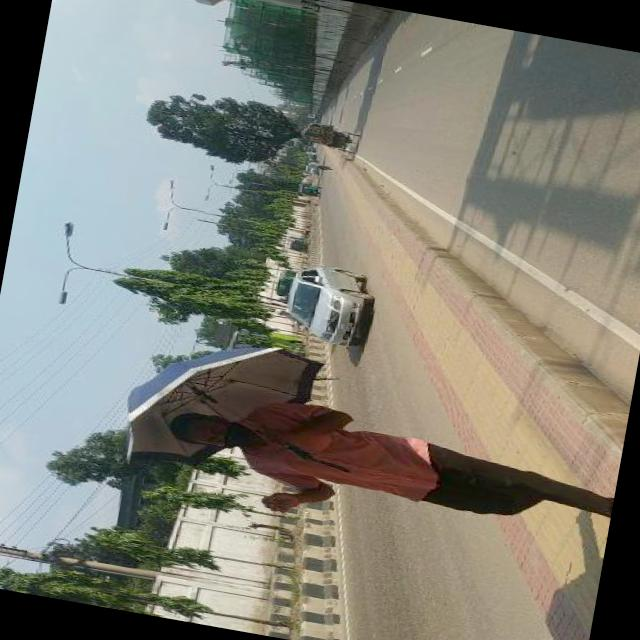car: (278, 258, 372, 348)
motorcycle: (298, 122, 358, 154), (296, 182, 321, 197), (284, 235, 306, 252)
